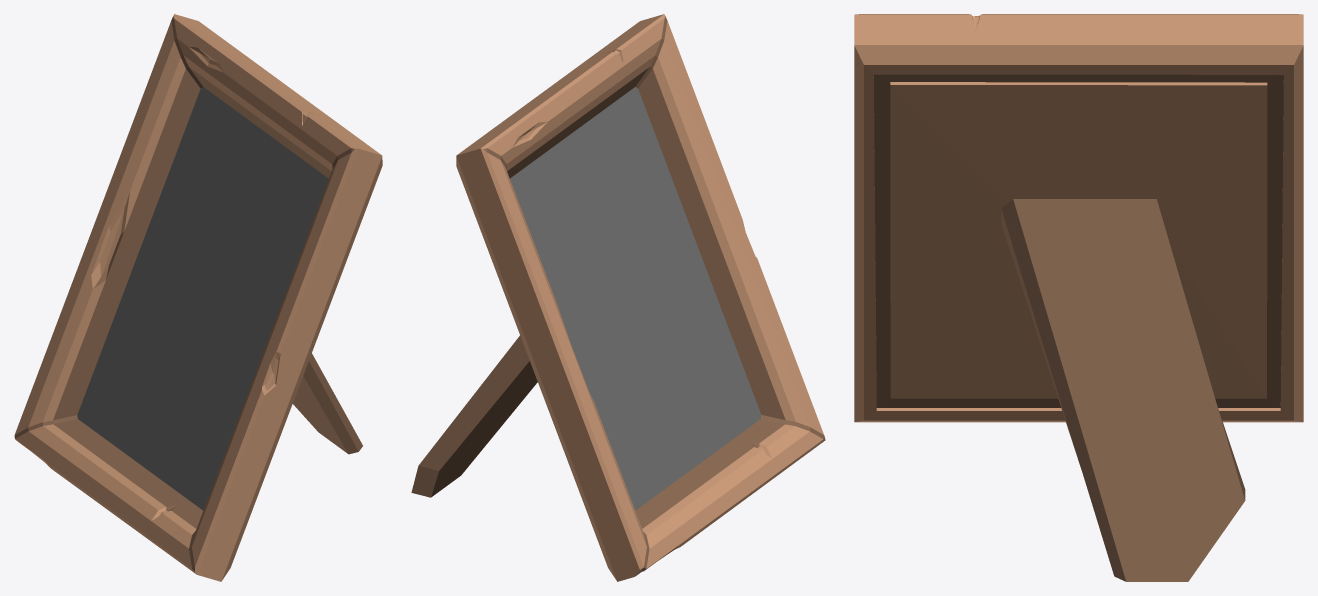
File: PictureFrame.fbx
The picture shows the model from 3 angles, left to right: view 1: azimuth 30°, elevation 25°; view 2: azimuth 150°, elevation 25°; view 3: azimuth 270°, elevation 25°; orthographic projection. The views are drawn at different scales.
Visible parts, largest first — view 1: Cube; view 2: Cube; view 3: Cube.
Boxes of the visible parts, x1,y1,x2,y2 form: Cube: (14,14,382,581); Cube: (411,14,825,581); Cube: (854,14,1303,581).
Size of the model in its own units: 138 by 193 by 158.
